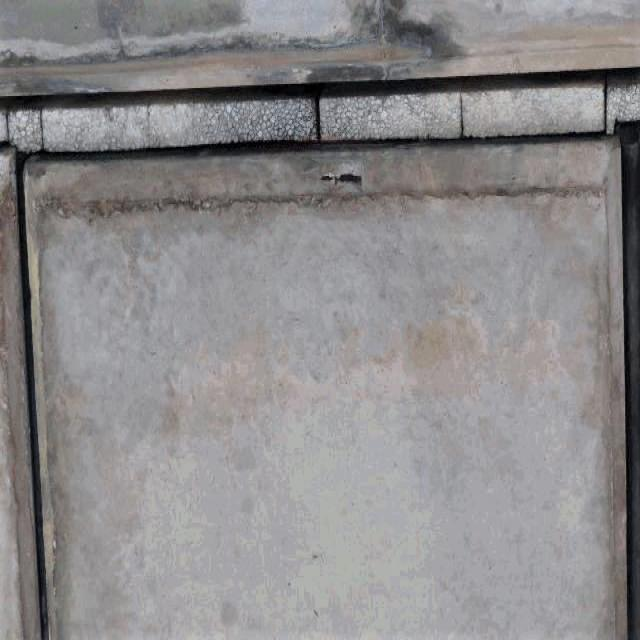Rebar: (318, 158, 362, 190)
